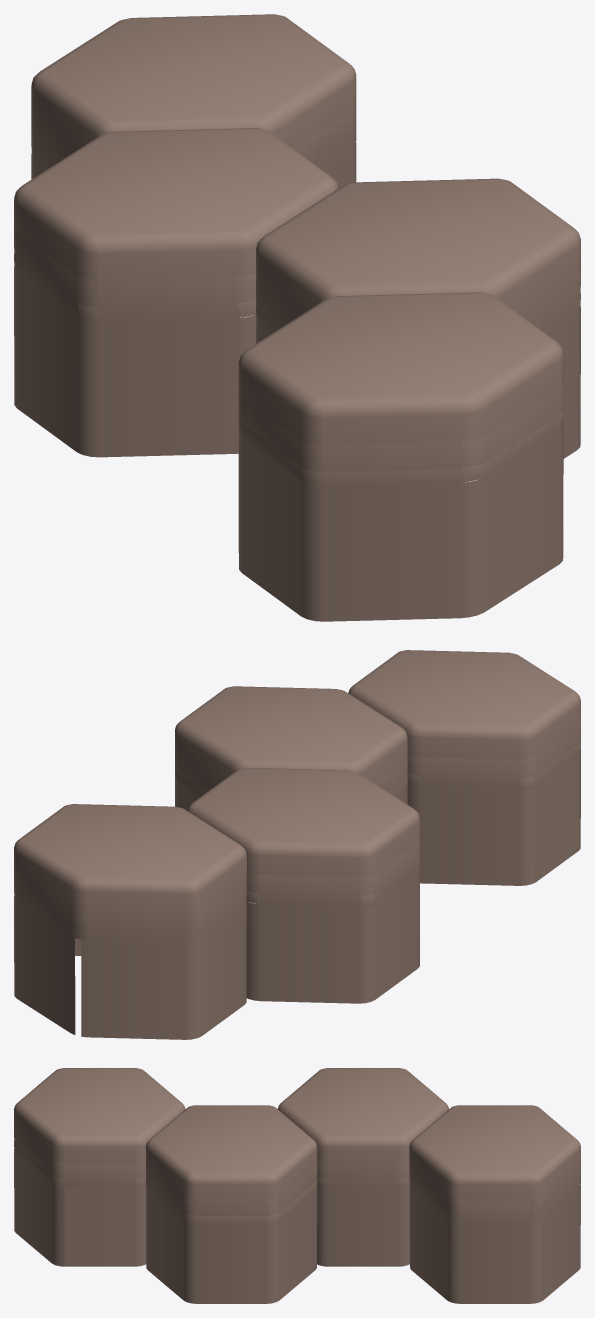
File: cave.fbx
3 views of the same model, one above another, from view 1: azimuth 30°, elevation 25°; view 2: azimuth 150°, elevation 25°; view 3: azimuth 270°, elevation 25° (orthographic). The views are drawn at different scales.
Parts seen in each view (by area): view 1: Path.001, Path.009, Wall_Left, Wall_Front, Path.006, Path.008, Path.004, Path.002, Wall_Right, Path.003; view 2: Wall_Left, Path.001, Path.008, Path.009, Path.006, Wall_Right, Path.004, Path.003; view 3: Wall_Right, Path.001, Path.009, Path.006, Path.008, Wall_Front, Path.003, Path.004, Path.002.
Part boxes in pixels (<box>): Path.001: <box>14,110,580,485</box>; Path.009: <box>31,79,563,485</box>; Wall_Left: <box>14,154,319,615</box>; Wall_Front: <box>301,421,563,621</box>; Path.006: <box>44,15,356,169</box>; Path.008: <box>14,14,310,322</box>; Path.004: <box>14,253,563,485</box>; Path.002: <box>77,273,255,321</box>; Wall_Right: <box>322,143,580,479</box>; Path.003: <box>254,249,580,333</box>; Wall_Left: <box>81,754,578,1039</box>; Path.001: <box>14,686,580,936</box>; Path.008: <box>14,754,535,942</box>; Path.009: <box>14,650,580,942</box>; Path.006: <box>20,804,246,902</box>; Wall_Right: <box>14,780,199,1034</box>; Path.004: <box>247,722,580,905</box>; Path.003: <box>175,752,407,796</box>; Wall_Right: <box>64,1185,580,1303</box>; Path.001: <box>14,1068,542,1224</box>; Path.009: <box>14,1068,580,1224</box>; Path.006: <box>409,1105,572,1224</box>; Path.008: <box>59,1105,580,1224</box>; Wall_Front: <box>14,1149,64,1266</box>; Path.003: <box>145,1145,318,1223</box>; Path.004: <box>14,1127,409,1186</box>; Path.002: <box>318,1161,398,1186</box>.
Bounding box in the file's own units: 3 × 6.45 × 1.6.
